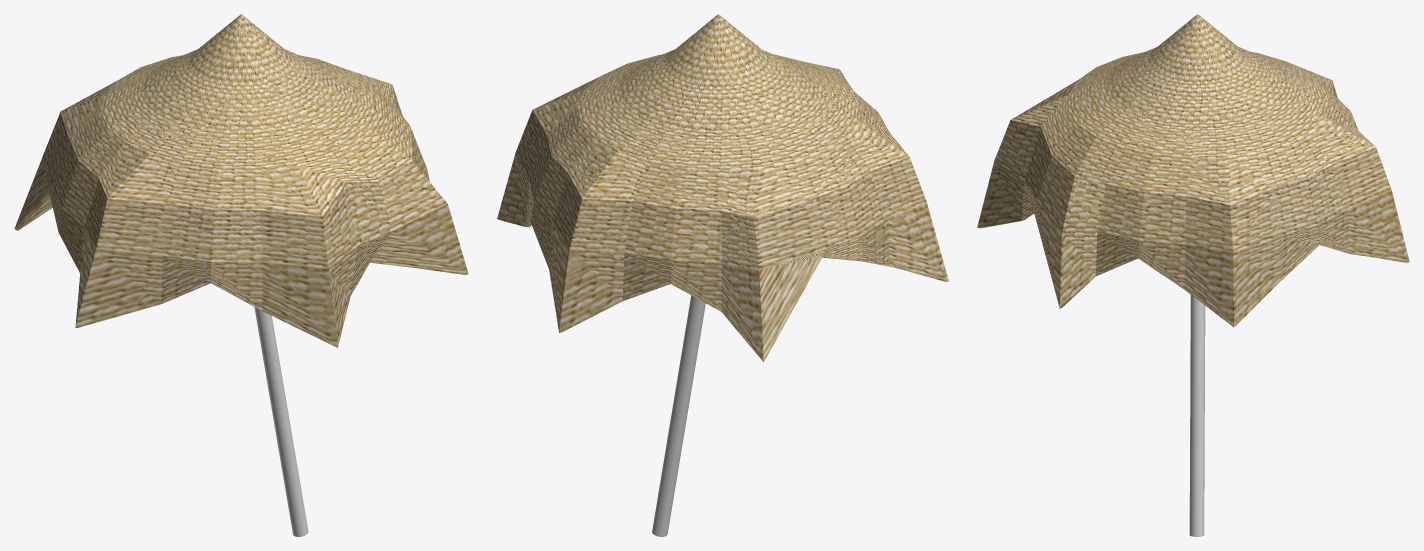
The model's file is Umbrella.FBX.
3 views of the same model, side by side, from view 1: azimuth 30°, elevation 25°; view 2: azimuth 150°, elevation 25°; view 3: azimuth 270°, elevation 25° (orthographic). The views are drawn at different scales.
Parts seen in each view (by area): view 1: Sphere001, Line001; view 2: Sphere001, Line001; view 3: Sphere001, Line001.
Boxes of the visible parts, box(x1,y1,x2,y2) form: Sphere001: box(14, 14, 468, 347); Line001: box(254, 307, 308, 536); Sphere001: box(497, 14, 948, 361); Line001: box(652, 295, 705, 536); Sphere001: box(977, 14, 1409, 327); Line001: box(1189, 295, 1205, 536).
Bounding box in the file's own units: 45.89 × 58.62 × 46.39.
